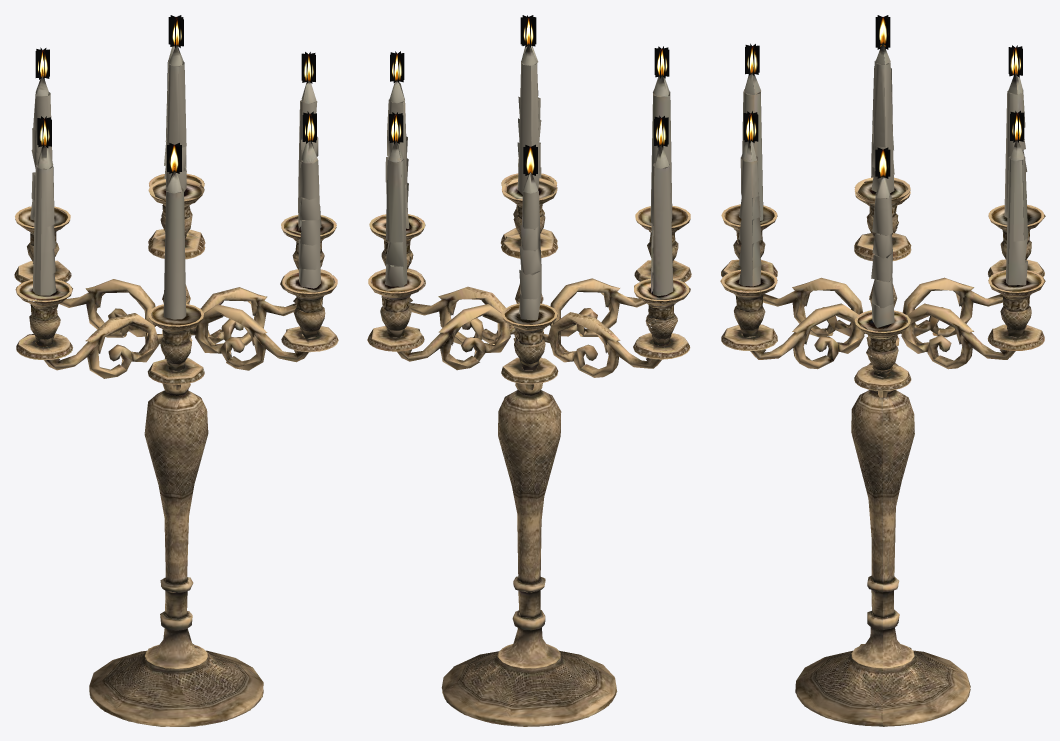
Rendered from brass_candleholders_tall.glb.
3 views of the same model, side by side, from view 1: azimuth 30°, elevation 25°; view 2: azimuth 150°, elevation 25°; view 3: azimuth 270°, elevation 25° (orthographic).
Visible parts, largest first — view 1: brass_candleholder_03; view 2: brass_candleholder_03; view 3: brass_candleholder_03.
Part boxes in pixels (x1,y1,x2,y2): brass_candleholder_03: [14, 15, 338, 726]; brass_candleholder_03: [367, 15, 691, 726]; brass_candleholder_03: [720, 15, 1045, 726].
Bounding box in the file's own units: 0.4083 × 0.8353 × 0.3664.
2 materials, 2 textured.
